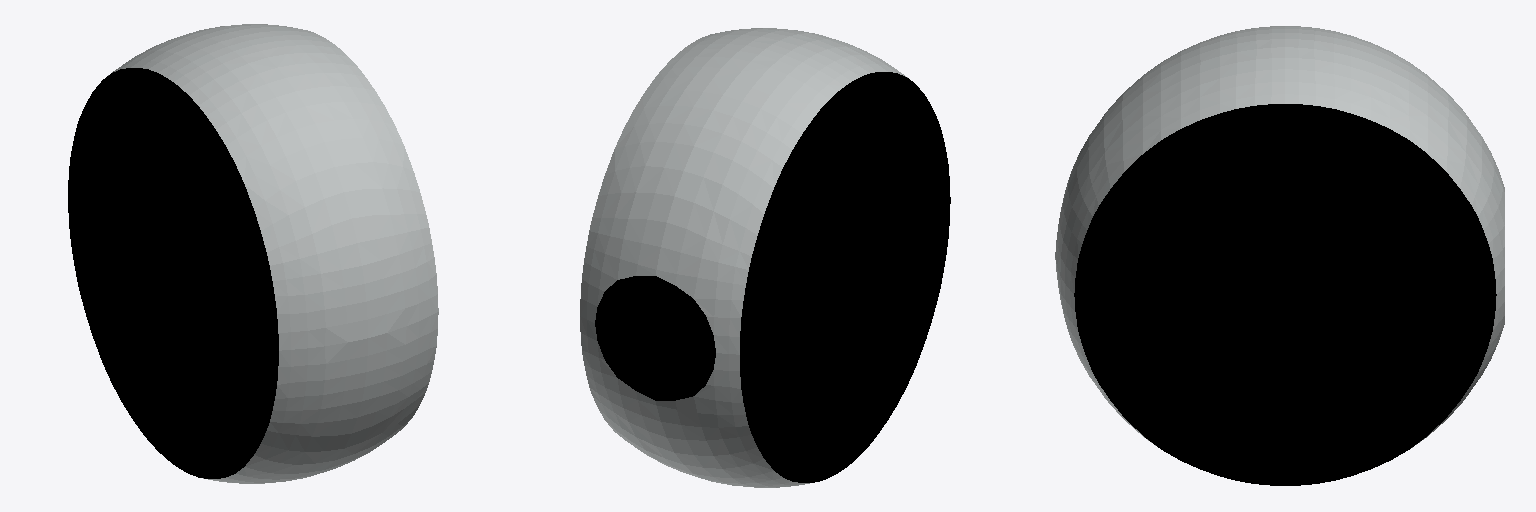
3 renders of one model, left to right at view 1: azimuth 30°, elevation 25°; view 2: azimuth 150°, elevation 25°; view 3: azimuth 270°, elevation 25°, orthographic.
Visible parts, largest first — view 1: hip; view 2: hip; view 3: hip.
Boxes of the visible parts, x1=… form: hip: x1=68, y1=24, x2=438, y2=483; hip: x1=580, y1=28, x2=950, y2=487; hip: x1=1055, y1=26, x2=1504, y2=485.
Size of the model in its own units: 0.1 by 0.2501 by 0.2441.
Materials: 1 (1 with a texture image).